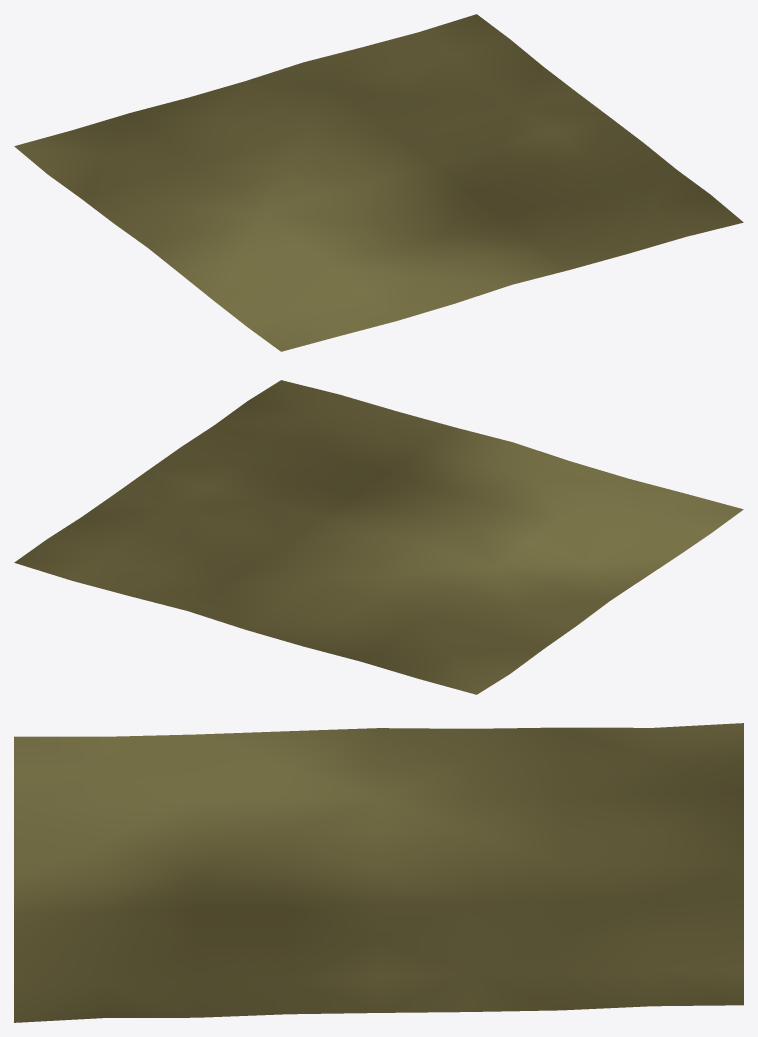
The model's file is terrain_lod2_-6_1.obj.
The picture shows the model from 3 angles, top to bottom: view 1: azimuth 30°, elevation 25°; view 2: azimuth 150°, elevation 25°; view 3: azimuth 270°, elevation 25°; orthographic projection. The views are drawn at different scales.
Visible parts, largest first — view 1: terrain_lod2_-6_1; view 2: terrain_lod2_-6_1; view 3: terrain_lod2_-6_1.
Part boxes in pixels (<box>): terrain_lod2_-6_1: <box>14,14,743,351</box>; terrain_lod2_-6_1: <box>14,380,743,694</box>; terrain_lod2_-6_1: <box>14,723,743,1022</box>.
Size of the model in its own units: 128 by 7.74 by 128.
